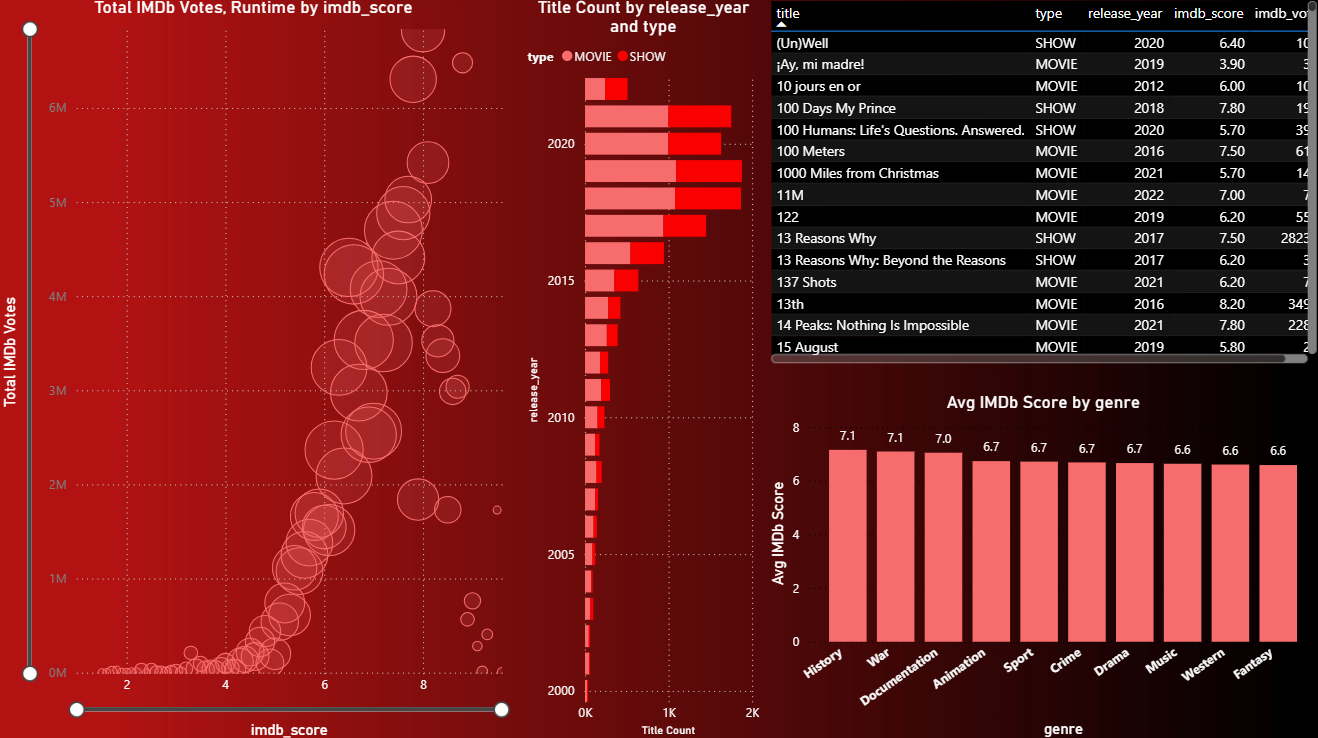

Layout of this report page (visuals, bound fields, positions):
{"tool":"powerbi","page":{"name":"Page 2","canvas":[1280,720],"ordinal":1},"visuals":[{"type":"columnChart","fields":{"Category":["TitleGenres.genre"],"Y":["Title.Avg IMDb Score"]},"box":[742,381.2,538.1,339],"z":0},{"type":"scatterChart","title":"Total IMDb Votes, Runtime by imdb_score","fields":{"X":["Title.imdb_score"],"Y":["Title.Total IMDb Votes"],"Size":["CountNonNull(Title.runtime)"]},"box":[0,0,497.1,720.2],"z":1000},{"type":"barChart","fields":{"Category":["Title.release_year"],"Y":["Title.Title Count"],"Series":["Title.type"]},"box":[507.9,0,234,720.2],"z":2000},{"type":"tableEx","fields":{"Values":["Title.title","Title.type","Title.release_year","Title.imdb_score","Title.imdb_votes"]},"box":[742,0,538.1,359.5],"z":3000}]}

Visuals, with their boxes in screenshot pixels (x1, y1, x2, y2), scaled from the page's 1280x720 canvas onto the 1318x738 screenshot:
columnChart - TitleGenres.genre x Title.Avg IMDb Score: (x1=764, y1=391, x2=1317, y2=737)
"Total IMDb Votes, Runtime by imdb_score" scatterChart: (x1=0, y1=0, x2=512, y2=737)
barChart - Title.release_year x Title.Title Count: (x1=523, y1=0, x2=764, y2=737)
tableEx - Title.title x Title.type: (x1=764, y1=0, x2=1317, y2=368)
